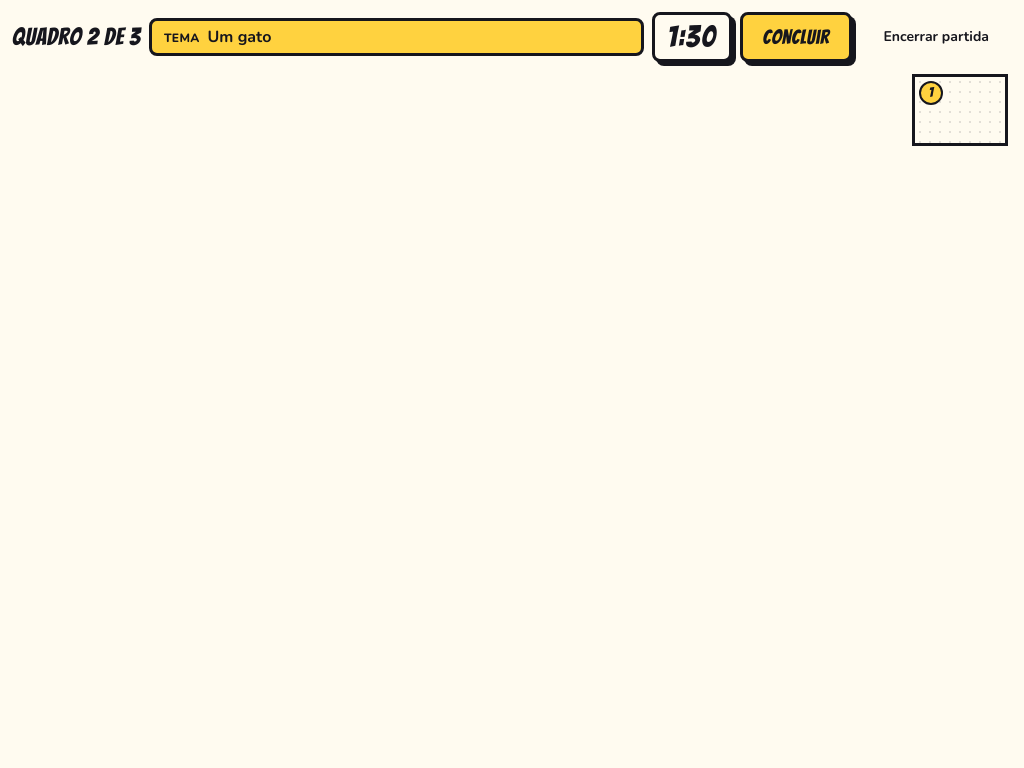
Test: tela de desenho › R38: clicar numa miniatura abre o quadro grande; Esc fecha e volta ao editor
This screenshot has width=1024, height=768.
Click the button named "Ampliar o quadro 1 de Bia" at (960, 110), box [912,74,1008,146]
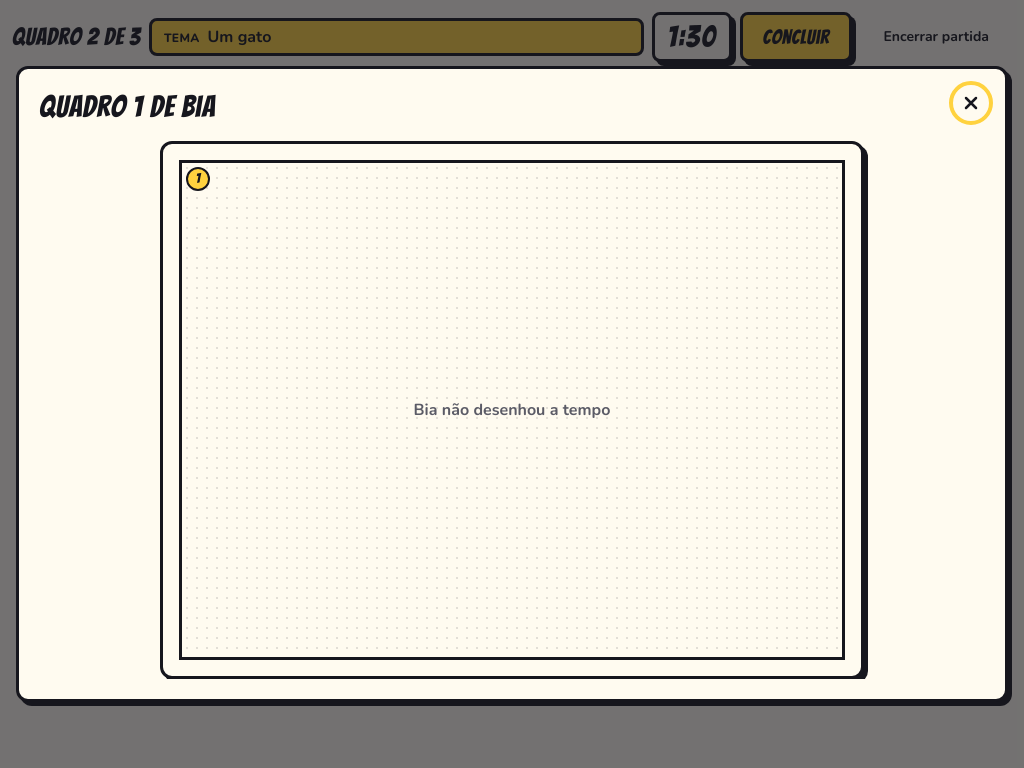
Now the picture named "Quadro 1 de Bia" is shown, box [182,163,842,657]
Press Escape in the dialog "Quadro 1 de Bia"
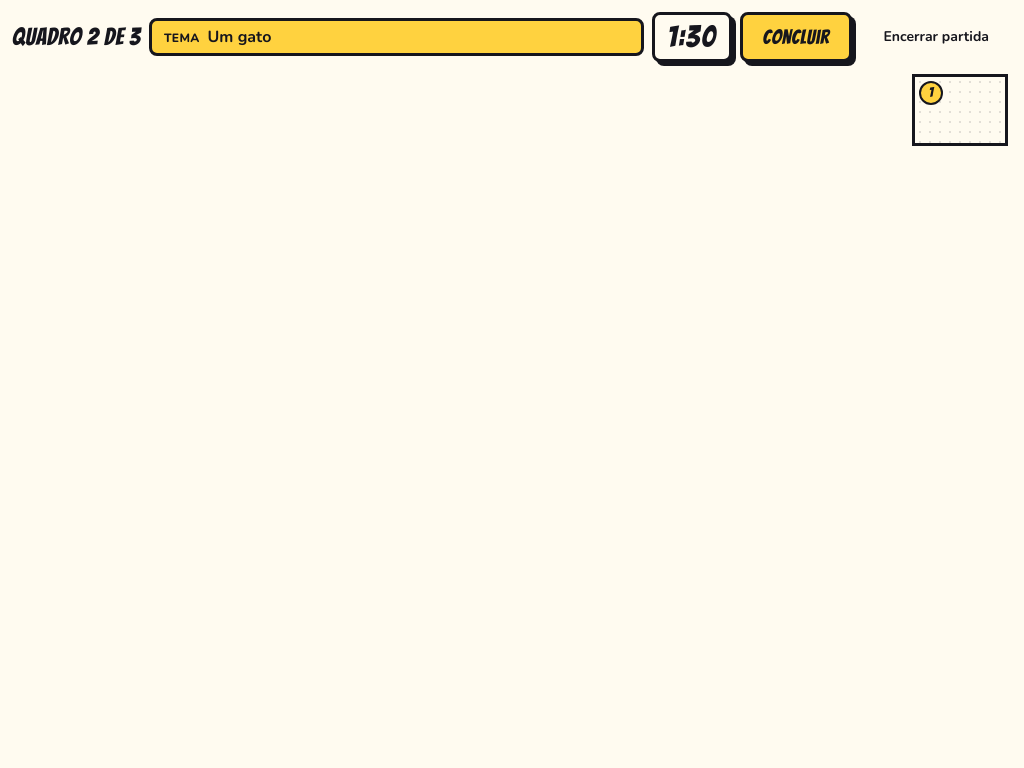
Now the dialog is gone
